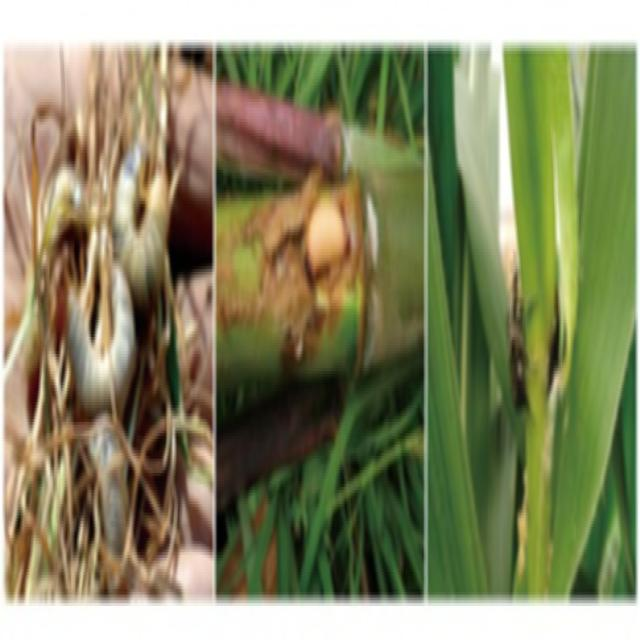grub: (55, 230, 148, 406), (109, 123, 186, 298), (84, 393, 133, 589), (307, 193, 358, 290), (506, 246, 534, 419)
